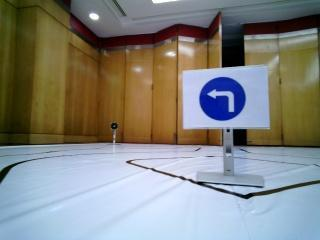left: (189, 77, 268, 127)
